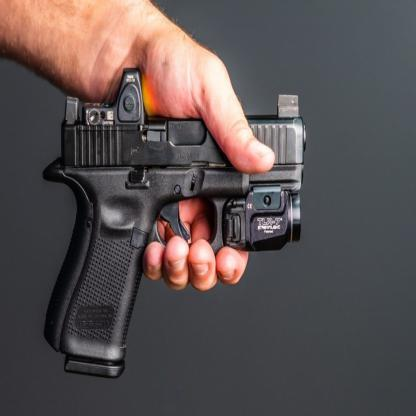Pistol: (42, 66, 309, 380)
